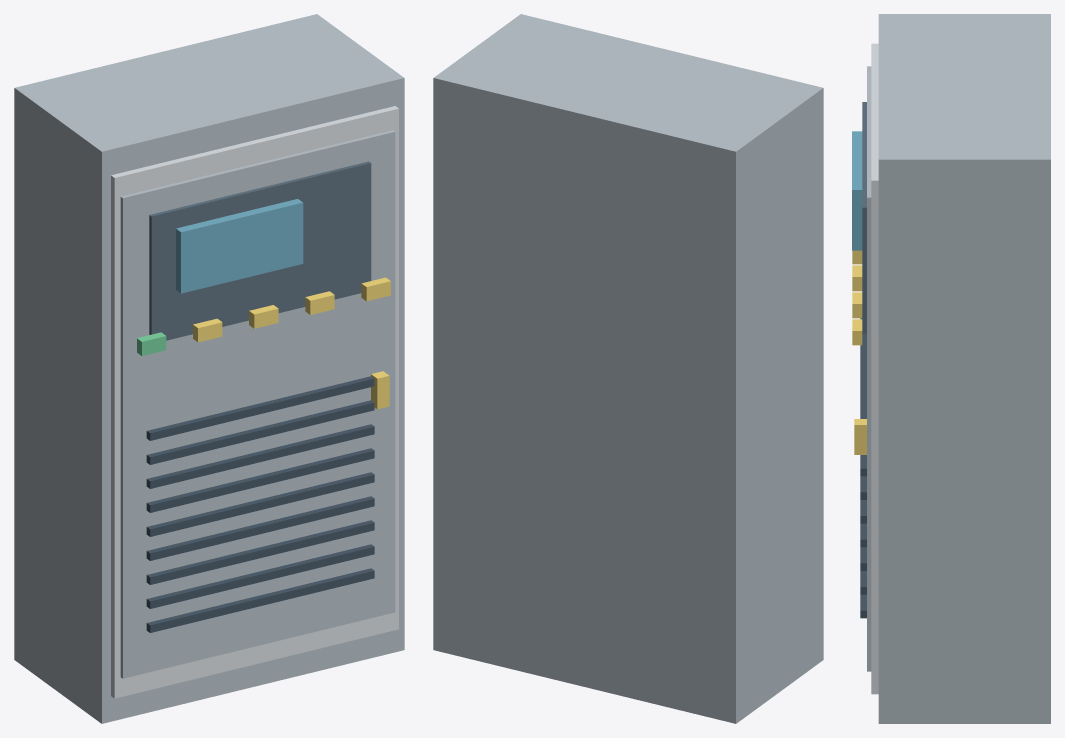
Rendered from vfd-starter.glb.
The picture shows the model from 3 angles, left to right: view 1: azimuth 30°, elevation 25°; view 2: azimuth 150°, elevation 25°; view 3: azimuth 270°, elevation 25°; orthographic projection.
Visible parts, largest first — view 1: vfd-starter; view 2: vfd-starter; view 3: vfd-starter.
Boxes of the visible parts, x1,y1,x2,y2 form: vfd-starter: [14, 14, 404, 723]; vfd-starter: [433, 14, 823, 723]; vfd-starter: [852, 14, 1050, 723].
Bounding box in the file's own units: 0.62 × 1.12 × 0.3575.
